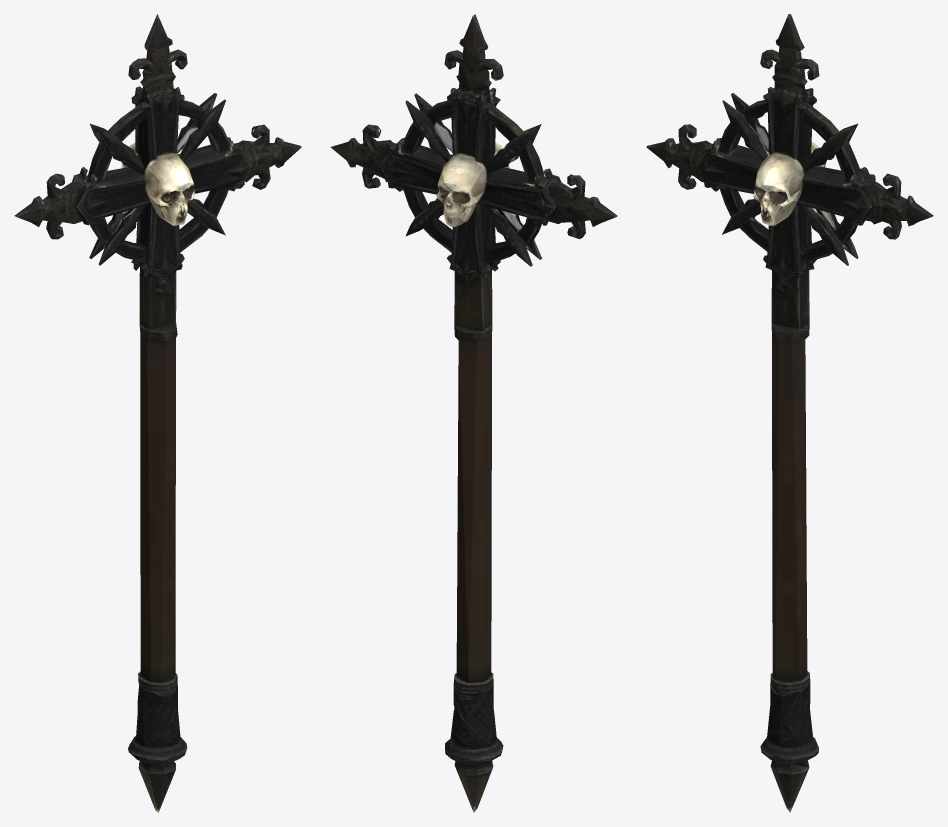
File: croce.glb
The picture shows the model from 3 angles, left to right: view 1: azimuth 30°, elevation 25°; view 2: azimuth 150°, elevation 25°; view 3: azimuth 330°, elevation 25°; orthographic projection.
Size of the model in its own units: 0.7133 by 1.9 by 0.2179.
Materials: 1 (1 with a texture image).
